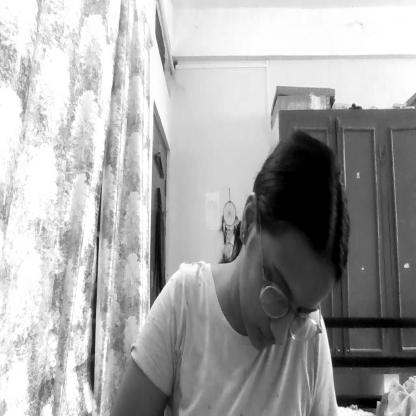Distracted: (244, 133, 341, 351)
